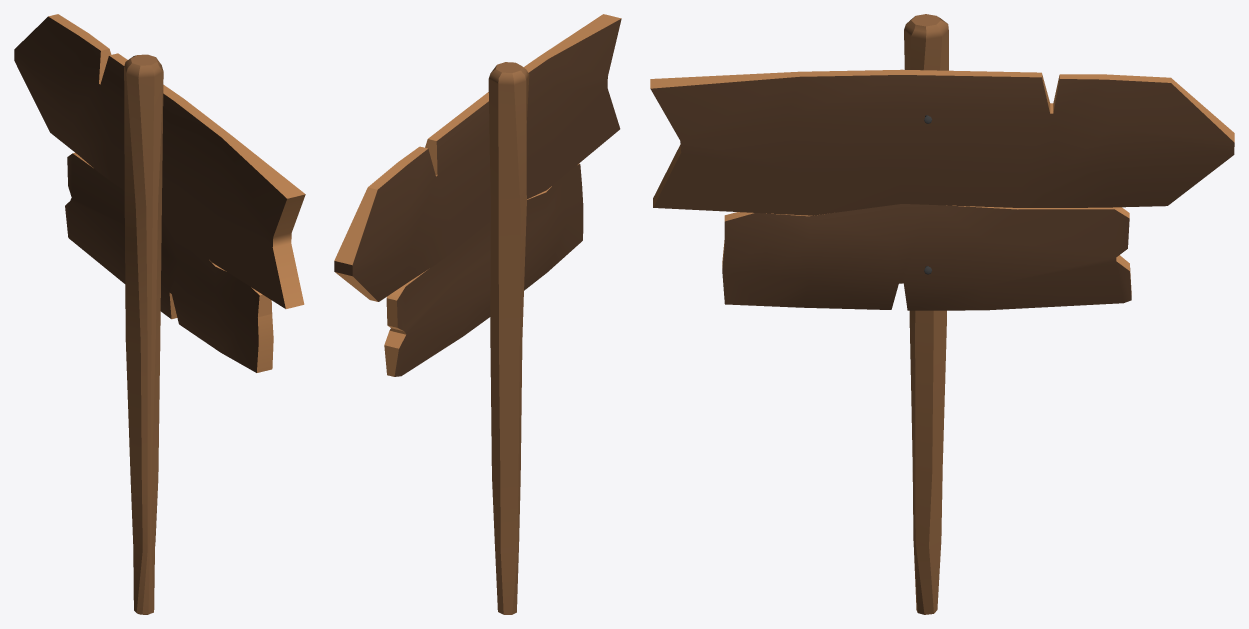
Rendered from th_sign_04.fbx.
3 renders of one model, left to right at view 1: azimuth 30°, elevation 25°; view 2: azimuth 150°, elevation 25°; view 3: azimuth 270°, elevation 25°, orthographic. The views are drawn at different scales.
Visible parts, largest first — view 1: th_sign_04; view 2: th_sign_04; view 3: th_sign_04.
Part boxes in pixels (left/top/right/bottom): th_sign_04: left=14, top=14, right=305, bottom=614; th_sign_04: left=334, top=14, right=621, bottom=614; th_sign_04: left=650, top=14, right=1234, bottom=614.
Bounding box in the file's own units: 12.11 × 97.75 × 87.51.
